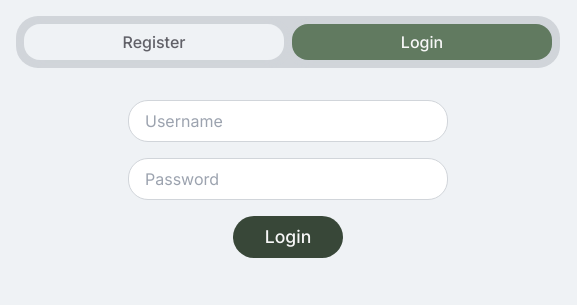
it: Login Page -- /Login › Unauthenticated User › Input Validation -- Login Tab › updates message when user submits without entering a password
In the field with placeholder "Username": x=288, y=121 [128,100,448,142], type "test123"
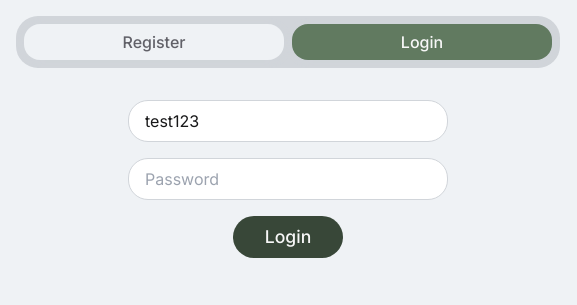
Click the button with test id "submit-btn": x=288, y=237 [233,216,343,258]
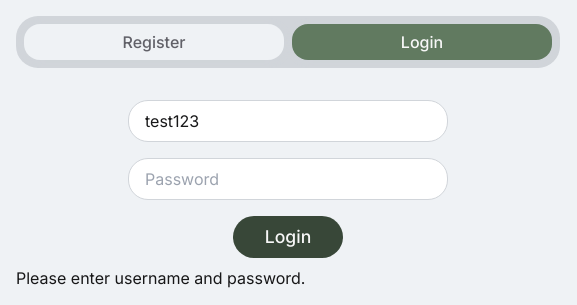
expect the text with test id "message" reads "Please enter username and password.": met, box [16,268,306,288]
